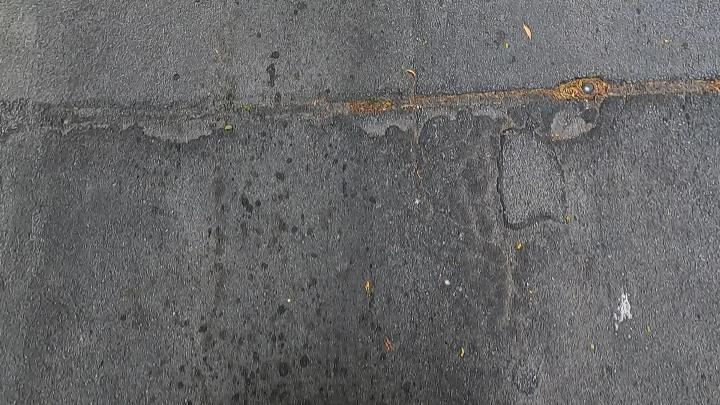Crack: (0, 59, 720, 150), (0, 78, 719, 142)
